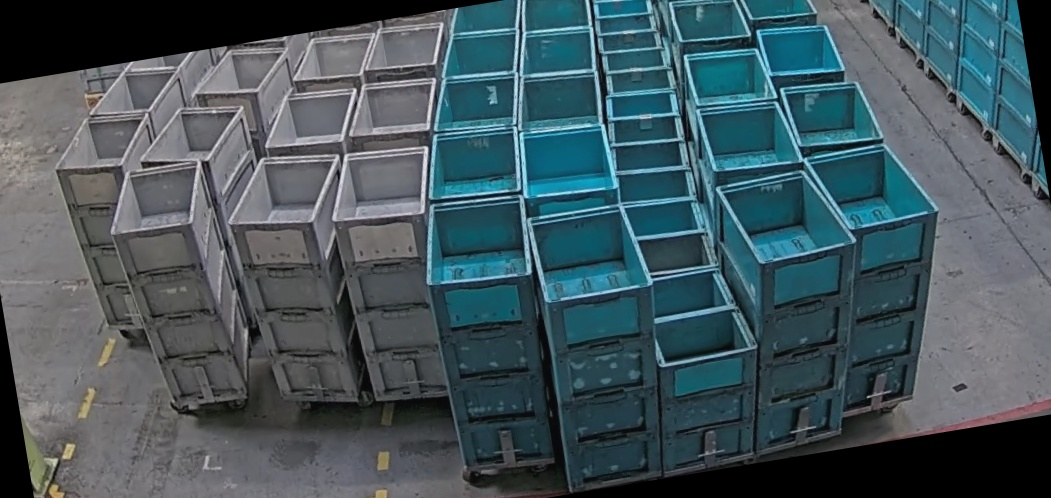4G: (218, 144, 380, 416), (100, 155, 261, 412), (322, 140, 468, 405), (47, 106, 185, 333)
B4: (703, 159, 889, 454), (800, 134, 973, 415), (524, 198, 686, 493), (412, 187, 569, 474)
B8: (627, 261, 778, 476)
